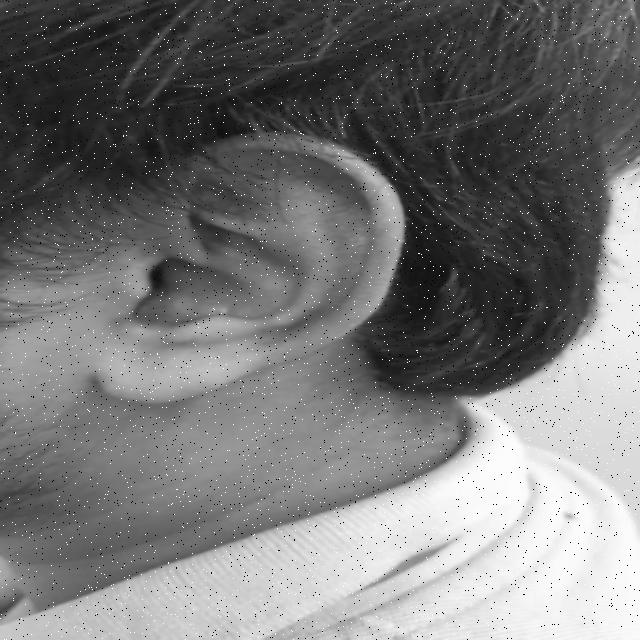ear: (96, 133, 404, 402), (143, 210, 155, 219)
